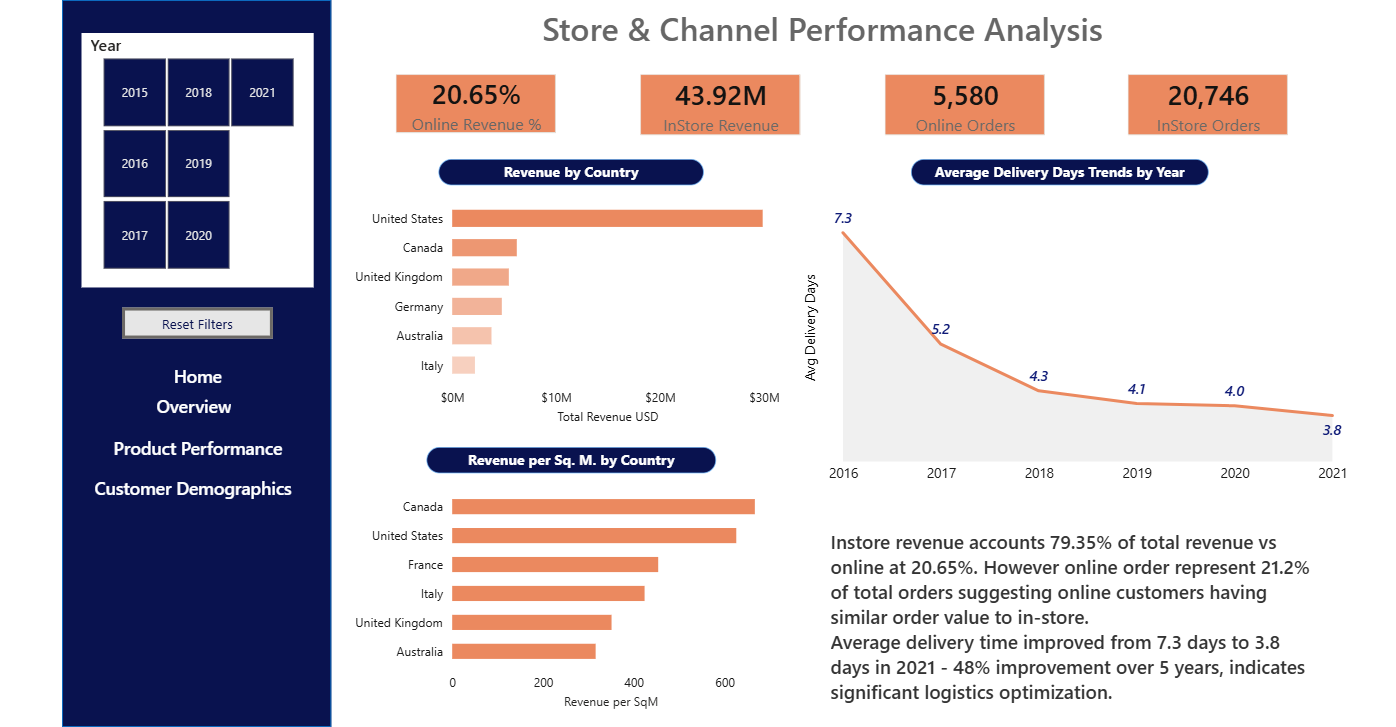

The page's visual inventory and layout, read from the dashboard file:
{"tool":"powerbi","page":{"name":"Store & Channel Analysis","canvas":[1280,720],"ordinal":2},"visuals":[{"type":"textbox","box":[266,0,954.3,59.9],"z":0},{"type":"cardVisual","fields":{"Data":["Measure.InStore Orders"]},"box":[1047.9,68.1,168.1,70.2],"z":1000},{"type":"cardVisual","fields":{"Data":["Measure.Online Orders"]},"box":[806.7,68.1,168.1,70],"z":2000},{"type":"cardVisual","fields":{"Data":["Measure.InStore Revenue"]},"box":[565.6,68.1,168.1,70],"z":3000},{"type":"cardVisual","fields":{"Data":["Measure.Online Revenue %"]},"box":[324.4,68.1,168.1,68.7],"z":4000},{"type":"clusteredBarChart","fields":{"Y":["Measure.Total Revenue USD"],"Category":["Customers.Country"]},"box":[277.7,182.7,437,241.1],"z":5000},{"type":"lineChart","fields":{"Category":["DateTable.Year"],"Y":["Measure.Avg Delivery Days"]},"box":[733.7,184.1,536.4,298.1],"z":6000},{"type":"clusteredBarChart","fields":{"Y":["Measure.Revenue per SqM"],"Category":["Stores.Country"]},"box":[277.7,467.7,437,236.8],"z":7000},{"type":"textbox","box":[372.5,157.5,262,25.7],"z":8000},{"type":"textbox","box":[838.9,157.5,293.8,25.7],"z":9000},{"type":"textbox","box":[360.4,442.1,286.2,25.7],"z":10000},{"type":"shape","box":[0,0,266,719],"z":11000},{"type":"actionButton","box":[84.8,359.5,99.4,23.4],"z":12000},{"type":"actionButton","box":[38,429.7,191.5,24.8],"z":13000},{"type":"actionButton","box":[8.8,469.1,241.1,24.8],"z":14000},{"type":"actionButton","box":[14.6,390.2,230.9,23.4],"z":15000},{"type":"textbox","box":[754.1,516.3,486.1,202.9],"z":16000},{"type":"actionButton","box":[59.9,304,149.1,30.7],"z":17000},{"type":"slicer","fields":{"Values":["DateTable.Year"]},"box":[19,32.2,229.5,251.4],"z":18000}]}

Visuals, with their boxes on the page's 1280x720 design canvas (x1, y1, x2, y2). These are canvas units, not pixel positions in the 1396x727 screenshot, which may show the page scaled, cropped or inside an application window:
textbox: detection(266, 0, 1220, 60)
cardVisual - Measure.InStore Orders: detection(1048, 68, 1216, 138)
cardVisual - Measure.Online Orders: detection(807, 68, 975, 138)
cardVisual - Measure.InStore Revenue: detection(566, 68, 734, 138)
cardVisual - Measure.Online Revenue %: detection(324, 68, 492, 137)
clusteredBarChart - Measure.Total Revenue USD x Customers.Country: detection(278, 183, 715, 424)
lineChart - DateTable.Year x Measure.Avg Delivery Days: detection(734, 184, 1270, 482)
clusteredBarChart - Measure.Revenue per SqM x Stores.Country: detection(278, 468, 715, 704)
textbox: detection(372, 158, 634, 183)
textbox: detection(839, 158, 1133, 183)
textbox: detection(360, 442, 647, 468)
shape: detection(0, 0, 266, 719)
actionButton: detection(85, 360, 184, 383)
actionButton: detection(38, 430, 230, 454)
actionButton: detection(9, 469, 250, 494)
actionButton: detection(15, 390, 246, 414)
textbox: detection(754, 516, 1240, 719)
actionButton: detection(60, 304, 209, 335)
slicer - DateTable.Year: detection(19, 32, 248, 284)
